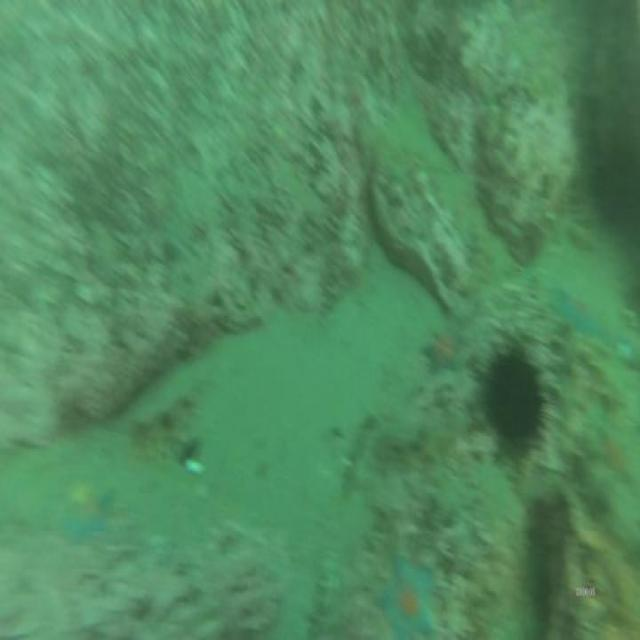echinus: (483, 337, 545, 463)
starfish: (377, 545, 441, 640), (60, 471, 116, 550), (550, 280, 612, 348), (420, 314, 470, 382)
